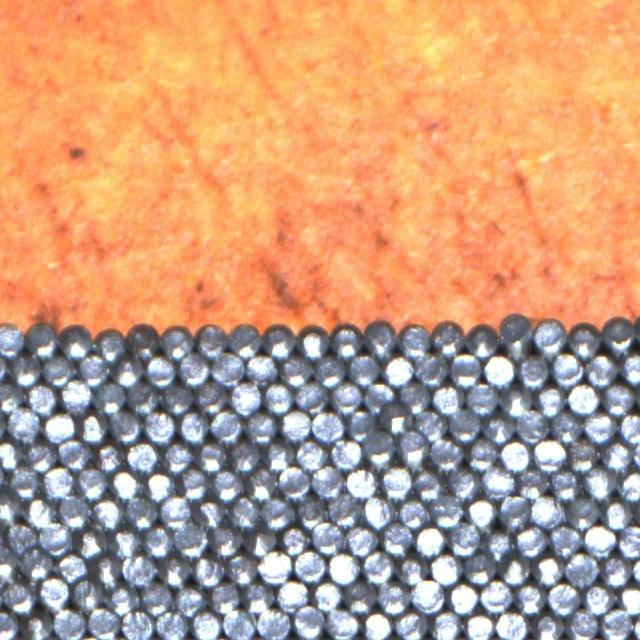tool: (227, 322, 261, 358), (429, 436, 463, 471), (546, 580, 580, 614), (8, 407, 42, 441), (482, 352, 516, 386), (142, 468, 176, 502), (176, 351, 210, 385), (257, 606, 291, 640), (583, 353, 617, 387), (411, 578, 445, 612), (194, 381, 228, 415), (210, 352, 244, 386), (262, 324, 296, 358), (499, 321, 533, 355), (533, 319, 566, 354), (25, 322, 58, 357), (602, 317, 634, 353), (293, 548, 326, 582), (582, 523, 616, 556), (60, 378, 93, 412), (292, 604, 325, 638), (228, 380, 262, 413), (177, 409, 210, 443), (565, 552, 598, 586), (328, 436, 362, 469), (363, 432, 396, 466), (567, 495, 600, 529), (61, 326, 94, 360), (126, 381, 160, 414), (8, 354, 42, 387), (394, 553, 428, 586), (42, 353, 76, 386), (446, 580, 479, 614), (245, 351, 278, 385), (414, 351, 448, 384), (431, 321, 464, 355), (294, 378, 328, 411), (601, 381, 634, 415), (125, 325, 158, 359), (398, 324, 431, 358), (364, 320, 396, 355), (431, 494, 464, 527), (567, 381, 600, 414), (466, 380, 499, 413), (211, 409, 244, 442), (344, 522, 377, 555), (381, 353, 414, 386), (517, 355, 550, 388), (141, 524, 174, 557), (244, 410, 277, 443), (91, 496, 124, 529), (160, 381, 193, 414), (310, 579, 343, 612), (38, 576, 71, 609), (361, 550, 394, 583), (3, 580, 36, 613), (77, 352, 110, 385), (25, 381, 58, 414), (447, 521, 480, 554), (209, 524, 242, 557), (583, 466, 616, 499), (396, 496, 429, 529), (53, 607, 86, 640), (497, 494, 530, 527), (260, 495, 293, 528), (158, 554, 191, 587), (533, 438, 566, 471), (174, 523, 207, 556), (275, 578, 308, 611), (211, 468, 244, 501), (516, 467, 549, 500), (499, 438, 532, 471), (92, 439, 125, 472), (376, 581, 409, 614), (501, 385, 534, 418), (223, 607, 256, 640), (394, 608, 428, 640), (42, 411, 76, 443), (566, 608, 600, 640), (397, 430, 429, 464), (88, 606, 120, 640), (379, 466, 413, 498), (123, 552, 157, 584), (348, 352, 380, 386), (548, 523, 582, 555), (126, 438, 158, 472), (344, 466, 378, 498), (228, 438, 260, 472), (568, 324, 600, 358), (551, 352, 583, 386), (380, 520, 412, 553), (142, 410, 175, 442), (515, 524, 547, 557), (279, 407, 311, 440), (110, 409, 142, 442), (262, 380, 294, 413), (516, 409, 548, 442), (531, 494, 564, 526), (313, 354, 346, 386), (431, 382, 464, 414), (75, 466, 108, 498), (584, 409, 616, 442), (176, 467, 209, 499), (416, 408, 448, 441), (362, 494, 394, 527), (414, 523, 446, 556), (244, 468, 277, 500), (58, 494, 91, 526), (448, 408, 481, 440), (279, 354, 312, 386), (193, 496, 226, 528), (582, 582, 614, 615), (531, 554, 564, 586), (42, 465, 74, 498), (446, 467, 479, 499), (191, 553, 224, 585), (276, 466, 309, 498), (312, 521, 344, 554), (111, 356, 144, 388), (124, 495, 157, 527), (76, 410, 108, 443), (208, 581, 241, 613), (481, 466, 514, 498), (245, 525, 278, 557), (141, 583, 174, 615), (463, 553, 496, 585), (482, 412, 515, 444), (194, 439, 226, 472), (466, 436, 498, 469), (94, 327, 126, 360), (74, 525, 107, 557), (566, 438, 599, 470), (59, 436, 91, 469), (330, 326, 362, 359), (225, 552, 258, 584), (449, 353, 481, 386), (121, 608, 154, 640), (414, 468, 446, 501), (344, 409, 377, 441), (195, 322, 227, 355), (24, 439, 56, 472), (21, 548, 54, 580), (380, 401, 413, 433), (174, 583, 206, 616), (241, 583, 275, 614), (190, 608, 222, 640), (40, 521, 72, 553), (480, 580, 512, 612), (259, 550, 291, 582), (327, 551, 359, 583), (227, 495, 259, 527), (56, 550, 88, 582), (144, 354, 176, 386), (429, 552, 461, 584), (464, 495, 496, 527), (312, 409, 344, 441), (295, 438, 327, 470), (90, 554, 122, 586), (330, 380, 362, 412), (534, 383, 566, 415), (550, 411, 582, 443), (600, 608, 632, 640), (24, 495, 56, 527), (7, 521, 39, 553), (109, 526, 141, 558), (160, 495, 192, 527), (344, 581, 376, 613), (600, 498, 632, 530), (160, 326, 192, 358), (327, 493, 359, 525), (326, 608, 358, 640), (295, 495, 327, 527), (311, 464, 343, 496), (550, 468, 582, 500), (160, 440, 192, 472), (72, 578, 104, 610), (601, 440, 633, 472), (466, 328, 498, 360), (495, 609, 528, 640), (360, 609, 393, 640), (481, 528, 514, 559), (600, 554, 631, 587), (398, 380, 431, 411), (7, 465, 40, 496), (530, 610, 564, 640), (515, 582, 546, 614), (156, 609, 188, 640), (429, 609, 461, 640), (110, 468, 142, 499), (94, 381, 125, 413), (107, 584, 139, 615), (297, 326, 328, 358), (501, 555, 532, 587), (364, 378, 396, 409), (262, 439, 294, 470), (22, 609, 54, 640), (278, 524, 309, 555), (463, 610, 495, 640), (0, 380, 25, 413), (0, 320, 24, 354), (616, 583, 640, 615), (617, 524, 640, 557), (0, 438, 24, 469), (617, 468, 640, 500), (618, 410, 640, 443), (619, 351, 640, 384), (0, 489, 21, 522), (0, 609, 20, 640), (0, 551, 19, 583)
